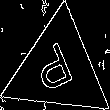P_SE: (34, 38, 83, 100)
